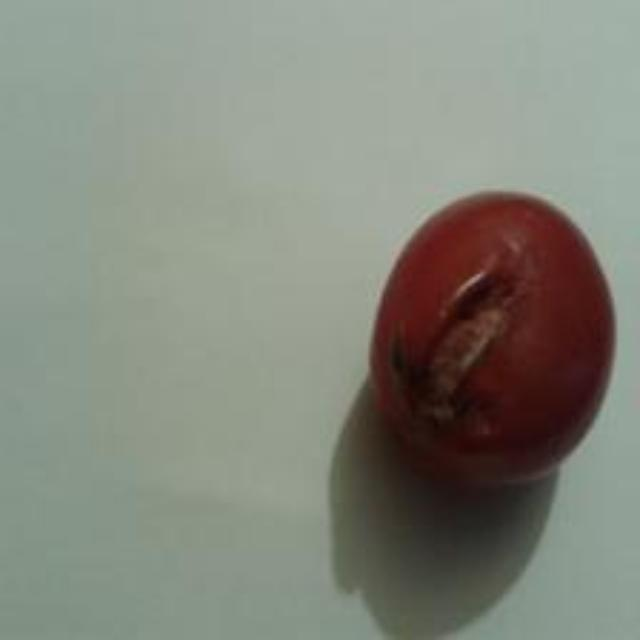defect: (365, 174, 619, 491)
